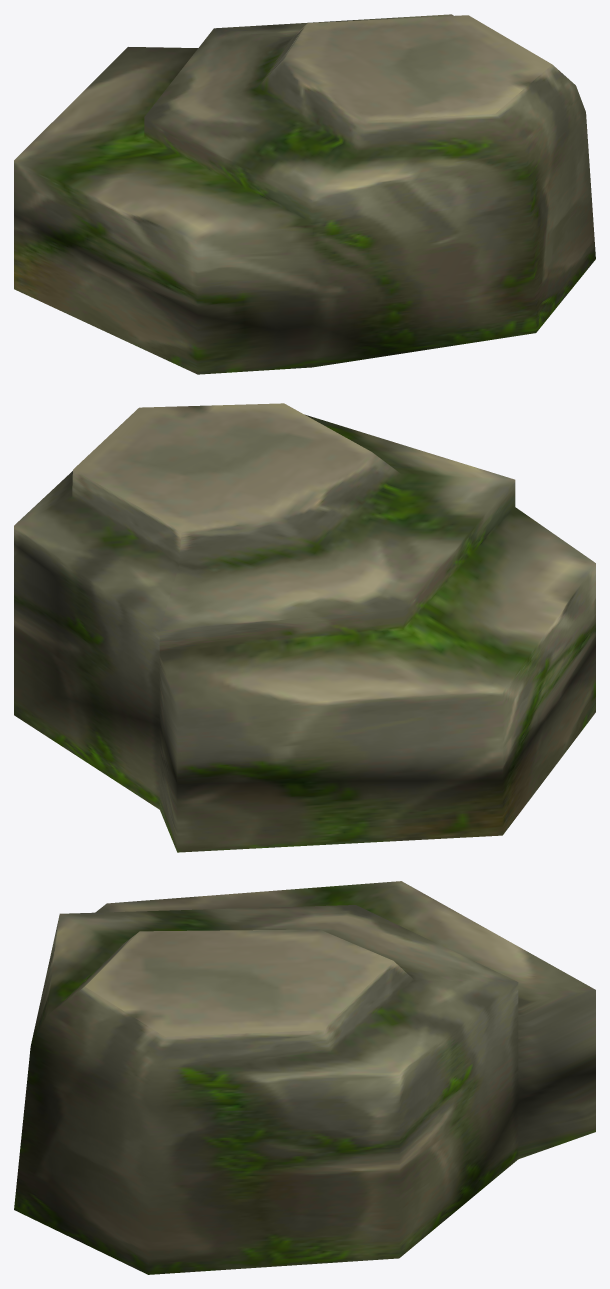
Rendered from RockFormation_4_5 (12).fbx.
3 renders of one model, top to bottom at view 1: azimuth 30°, elevation 25°; view 2: azimuth 150°, elevation 25°; view 3: azimuth 270°, elevation 25°, orthographic. The views are drawn at different scales.
Parts seen in each view (by area): view 1: RockFormation_4_5 (12); view 2: RockFormation_4_5 (12); view 3: RockFormation_4_5 (12).
Boxes of the visible parts, x1=… form: RockFormation_4_5 (12): x1=14, y1=14, x2=595, y2=374; RockFormation_4_5 (12): x1=14, y1=403, x2=595, y2=852; RockFormation_4_5 (12): x1=14, y1=881, x2=595, y2=1274.
Bounding box in the file's own units: 332 × 134 × 324.
